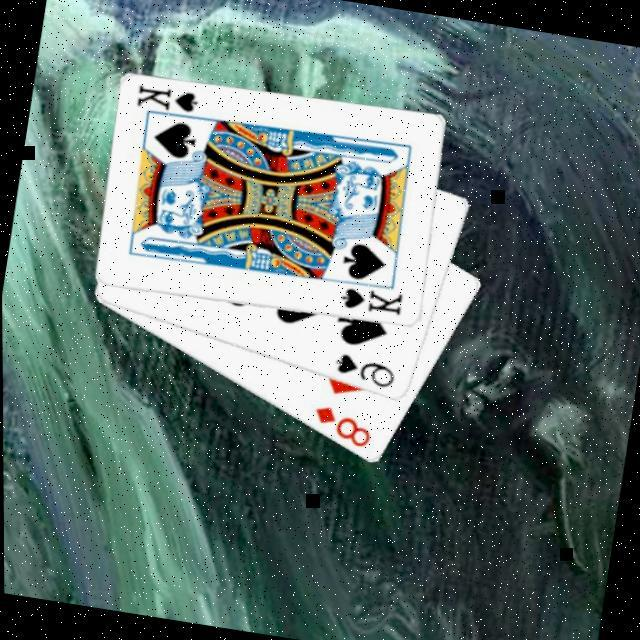8D: (308, 402, 379, 454)
9S: (330, 351, 401, 395)
KS: (134, 81, 210, 128), (338, 284, 410, 322)
